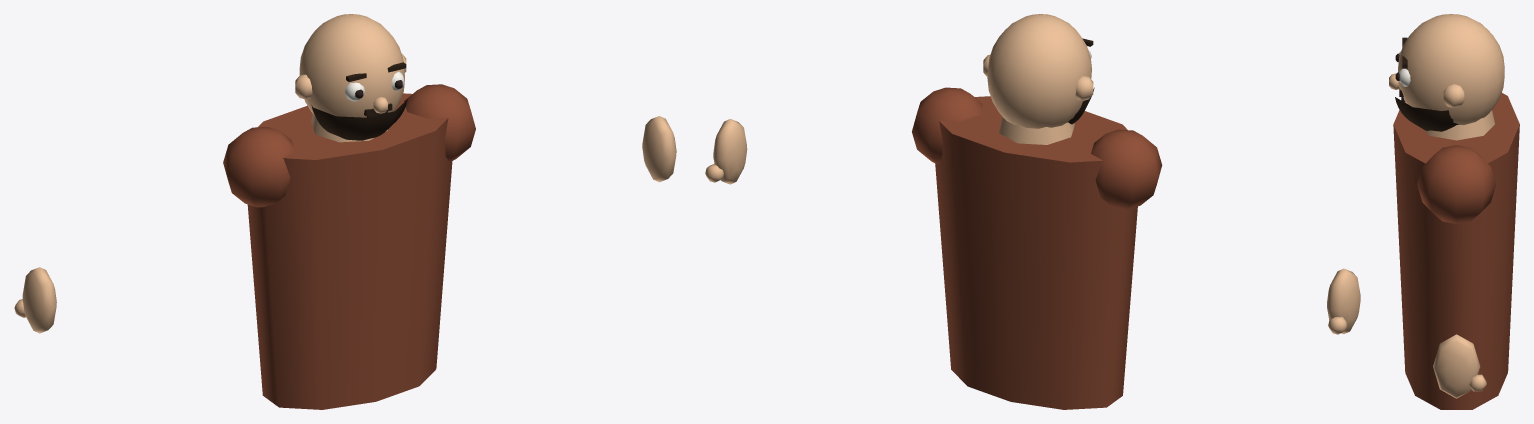
Rendered from avatar-rust.glb.
3 views of the same model, side by side, from view 1: azimuth 30°, elevation 25°; view 2: azimuth 150°, elevation 25°; view 3: azimuth 270°, elevation 25° (orthographic). The views are drawn at different scales.
Visible parts, largest first — view 1: Torso, Skull, ShoulderR, ShoulderL, HandL, HandR, Beard; view 2: Torso, Skull, ShoulderR, ShoulderL, HandL, HandR, Collar; view 3: Torso, Skull, ShoulderL, HandL, Beard, Collar, EarL, HandL_Thumb, EyeL.
Part boxes in pixels (bbox=[...]): Torso: bbox=[247, 93, 452, 409]; Skull: bbox=[299, 14, 404, 117]; ShoulderR: bbox=[223, 127, 294, 207]; ShoulderL: bbox=[404, 84, 475, 161]; HandL: bbox=[642, 116, 676, 182]; HandR: bbox=[22, 267, 56, 333]; Beard: bbox=[311, 99, 407, 140]; Torso: bbox=[935, 96, 1137, 409]; Skull: bbox=[987, 14, 1091, 128]; ShoulderR: bbox=[1091, 129, 1162, 209]; ShoulderL: bbox=[912, 87, 982, 163]; HandL: bbox=[713, 119, 747, 184]; HandR: bbox=[1327, 268, 1360, 334]; Collar: bbox=[999, 117, 1074, 144]; Torso: bbox=[1393, 93, 1519, 409]; Skull: bbox=[1398, 14, 1504, 125]; ShoulderL: bbox=[1417, 145, 1495, 223]; HandL: bbox=[1433, 334, 1480, 398]; Beard: bbox=[1395, 97, 1458, 131]; Collar: bbox=[1423, 110, 1494, 140]; EarL: bbox=[1443, 84, 1464, 107]; HandL_Thumb: bbox=[1469, 374, 1486, 391]; EyeL: bbox=[1399, 68, 1410, 86].
Bounding box in the file's own units: 1.37 × 0.7424 × 0.2482.
